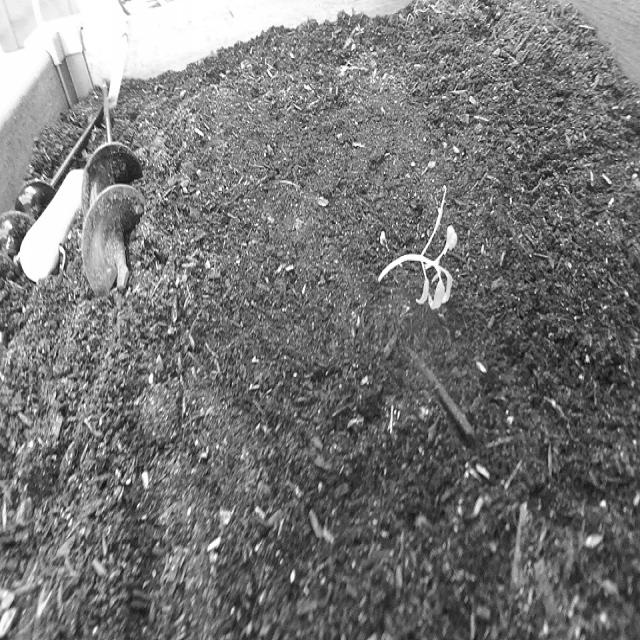Unhealthy: (376, 181, 464, 323)
